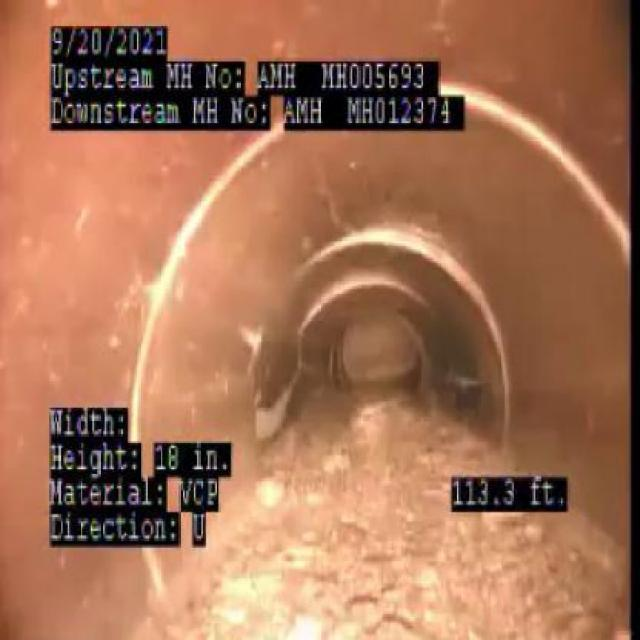Joint offset: (329, 211, 463, 272)
